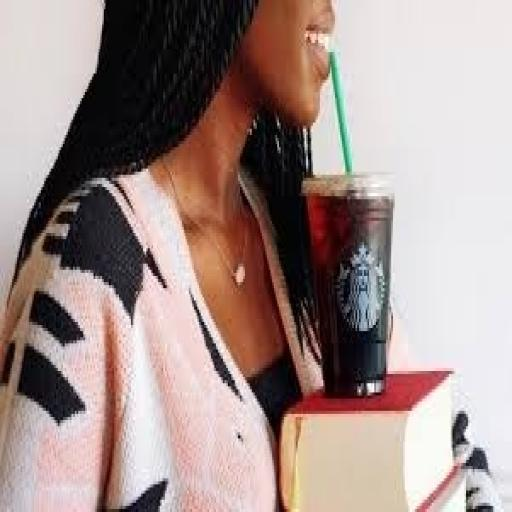drinking: (298, 168, 394, 396)
